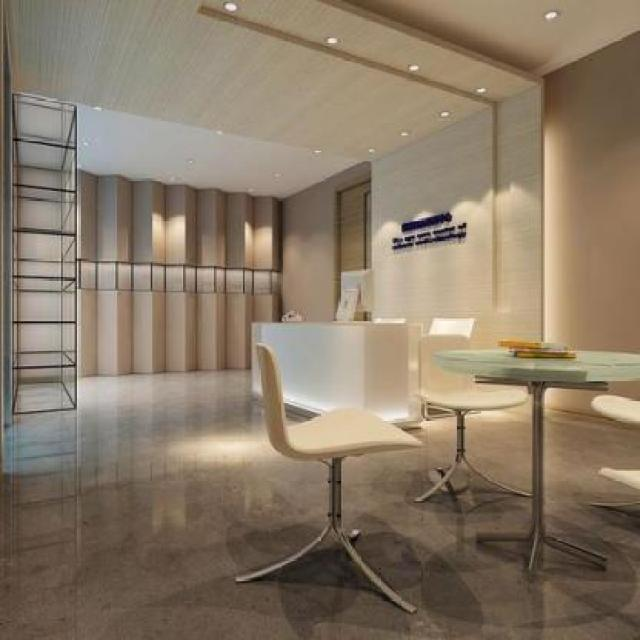frontdesk: (231, 296, 439, 434)
